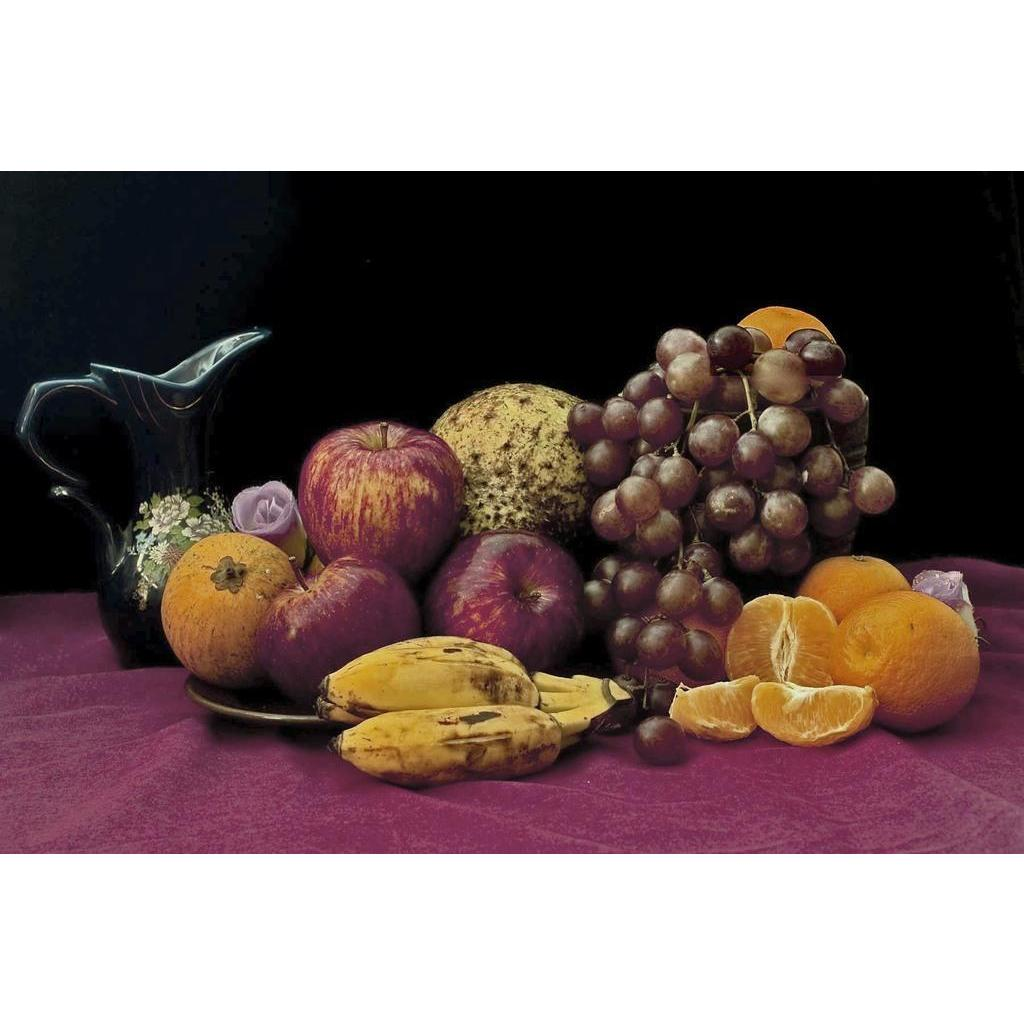apple: (300, 420, 468, 593), (427, 531, 590, 674), (261, 560, 421, 705)
banana: (332, 704, 596, 789), (320, 638, 542, 720)
grape: (568, 326, 894, 689)
